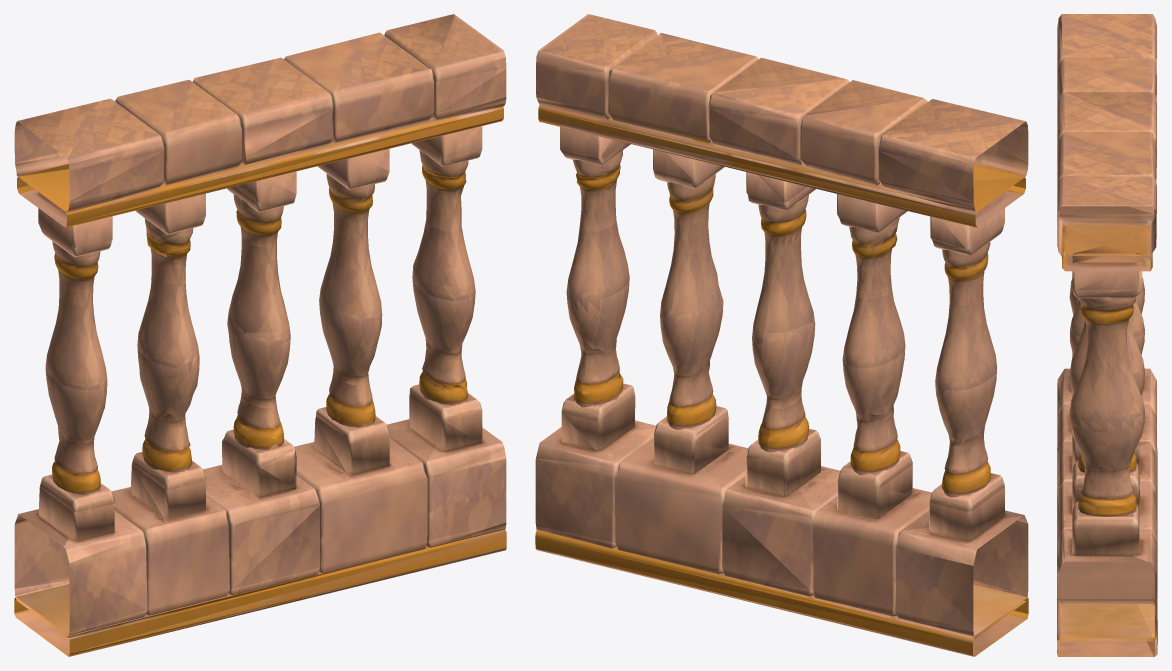
File: balustrade.glb
The picture shows the model from 3 angles, left to right: view 1: azimuth 30°, elevation 25°; view 2: azimuth 150°, elevation 25°; view 3: azimuth 270°, elevation 25°; orthographic projection. The views are drawn at different scales.
Visible parts, largest first — view 1: Mesh_0; view 2: Mesh_0; view 3: Mesh_0.
Part boxes in pixels (x1,y1,x2,y2): Mesh_0: [14, 14, 506, 656]; Mesh_0: [535, 14, 1028, 656]; Mesh_0: [1057, 14, 1157, 656].
Size of the model in its own units: 1.45 by 1.58 by 0.32.
1 material, 1 textured.
